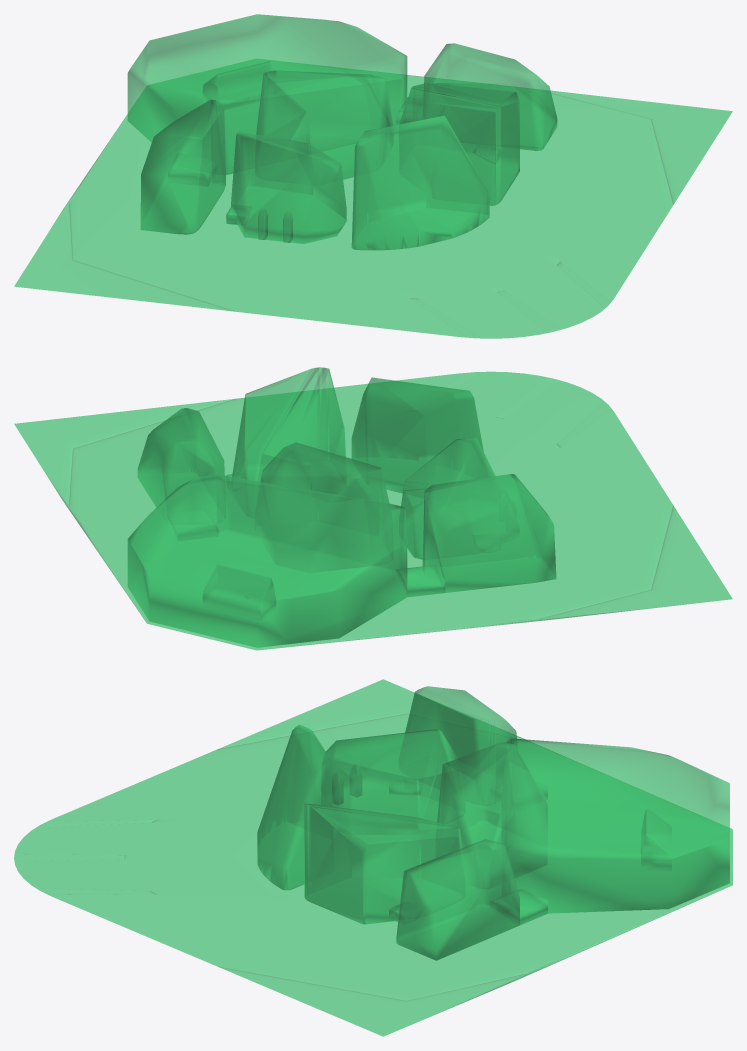
File: Camellia_City_collision.fbx
The picture shows the model from 3 angles, top to bottom: view 1: azimuth 30°, elevation 25°; view 2: azimuth 150°, elevation 25°; view 3: azimuth 270°, elevation 25°; orthographic projection.
Visible parts, largest first — view 1: Mesh1_hull_00, Mesh13_hull_00, Mesh17_hull_00, Mesh10_hull_00, Mesh18_hull_00, Mesh16_hull_00, Mesh3_hull_00, Mesh5_hull_00, Mesh12_hull_00, Mesh4_hull_00; view 2: Mesh1_hull_00, Mesh13_hull_00, Mesh18_hull_00, Mesh5_hull_00, Mesh17_hull_00, Mesh16_hull_00, Mesh3_hull_00, Mesh10_hull_00, Mesh12_hull_00, Mesh4_hull_00, Mesh2_hull_00; view 3: Mesh1_hull_00, Mesh13_hull_00, Mesh16_hull_00, Mesh3_hull_00, Mesh10_hull_00, Mesh18_hull_00, Mesh17_hull_00, Mesh5_hull_00, Mesh12_hull_00, Mesh2_hull_00.
Boxes of the visible parts, x1=… form: Mesh1_hull_00: x1=14, y1=59, x2=732, y2=338; Mesh13_hull_00: x1=127, y1=14, x2=407, y2=174; Mesh17_hull_00: x1=351, y1=115, x2=489, y2=250; Mesh10_hull_00: x1=231, y1=132, x2=346, y2=243; Mesh18_hull_00: x1=255, y1=70, x2=393, y2=179; Mesh16_hull_00: x1=399, y1=83, x2=519, y2=205; Mesh3_hull_00: x1=423, y1=43, x2=557, y2=150; Mesh5_hull_00: x1=140, y1=99, x2=225, y2=234; Mesh12_hull_00: x1=203, y1=61, x2=272, y2=109; Mesh4_hull_00: x1=168, y1=154, x2=215, y2=186; Mesh1_hull_00: x1=14, y1=371, x2=732, y2=650; Mesh13_hull_00: x1=127, y1=474, x2=407, y2=647; Mesh18_hull_00: x1=255, y1=442, x2=393, y2=572; Mesh5_hull_00: x1=422, y1=474, x2=556, y2=592; Mesh17_hull_00: x1=351, y1=377, x2=487, y2=493; Mesh16_hull_00: x1=231, y1=367, x2=346, y2=493; Mesh3_hull_00: x1=137, y1=408, x2=225, y2=523; Mesh10_hull_00: x1=399, y1=438, x2=519, y2=559; Mesh12_hull_00: x1=203, y1=563, x2=275, y2=620; Mesh4_hull_00: x1=396, y1=565, x2=445, y2=597; Mesh2_hull_00: x1=168, y1=514, x2=218, y2=540; Mesh1_hull_00: x1=14, y1=679, x2=732, y2=1036; Mesh13_hull_00: x1=502, y1=738, x2=729, y2=913; Mesh16_hull_00: x1=304, y1=803, x2=464, y2=924; Mesh3_hull_00: x1=396, y1=839, x2=519, y2=960; Mesh10_hull_00: x1=321, y1=729, x2=464, y2=822; Mesh18_hull_00: x1=436, y1=742, x2=547, y2=877; Mesh17_hull_00: x1=257, y1=724, x2=333, y2=890; Mesh5_hull_00: x1=399, y1=686, x2=517, y2=780; Mesh12_hull_00: x1=641, y1=808, x2=671, y2=870; Mesh2_hull_00: x1=490, y1=889, x2=547, y2=924.
Bounding box in the file's own units: 101462 × 14026 × 86242.
